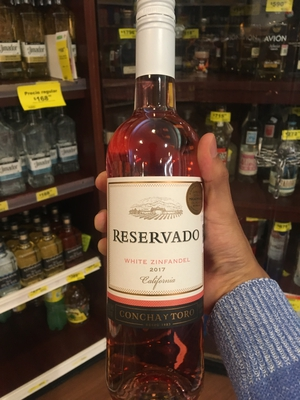reservado white zinfandel: (100, 8, 214, 377)
